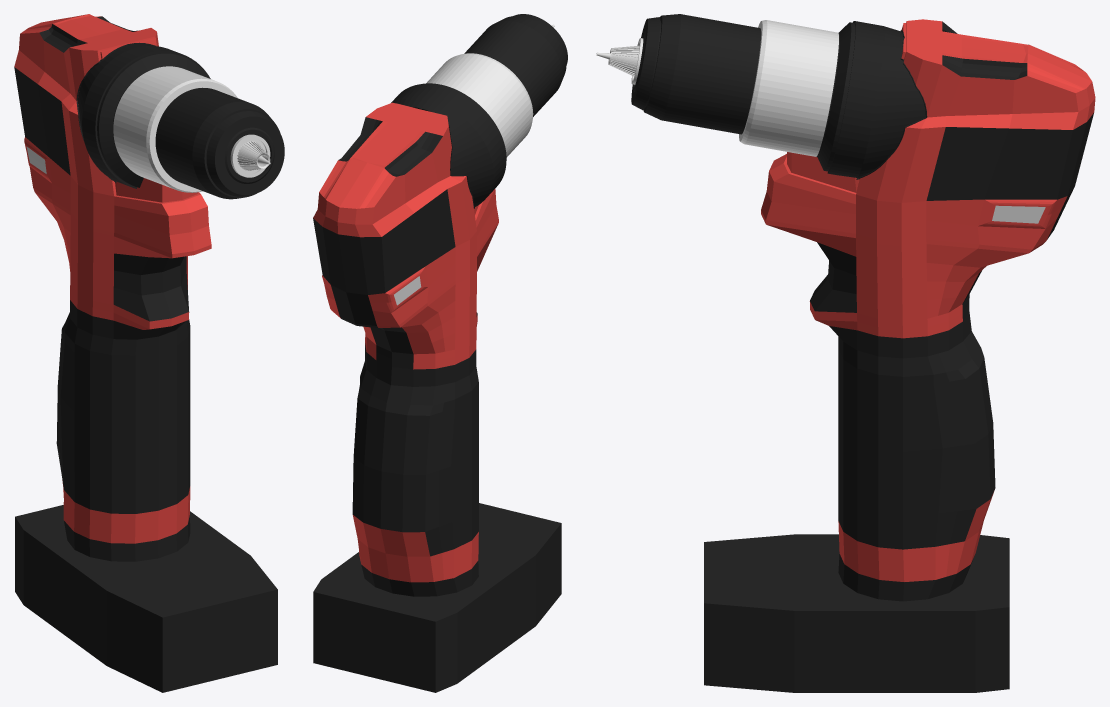
The model's file is Drill.fbx.
3 views of the same model, side by side, from view 1: azimuth 30°, elevation 25°; view 2: azimuth 150°, elevation 25°; view 3: azimuth 270°, elevation 25° (orthographic). The views are drawn at different scales.
Parts seen in each view (by area): view 1: Drill; view 2: Drill; view 3: Drill.
Boxes of the visible parts, x1,y1,x2,y2 form: Drill: (14,14,284,692); Drill: (313,14,567,692); Drill: (596,14,1095,692).
Size of the model in its own units: 120 by 463 by 330.
